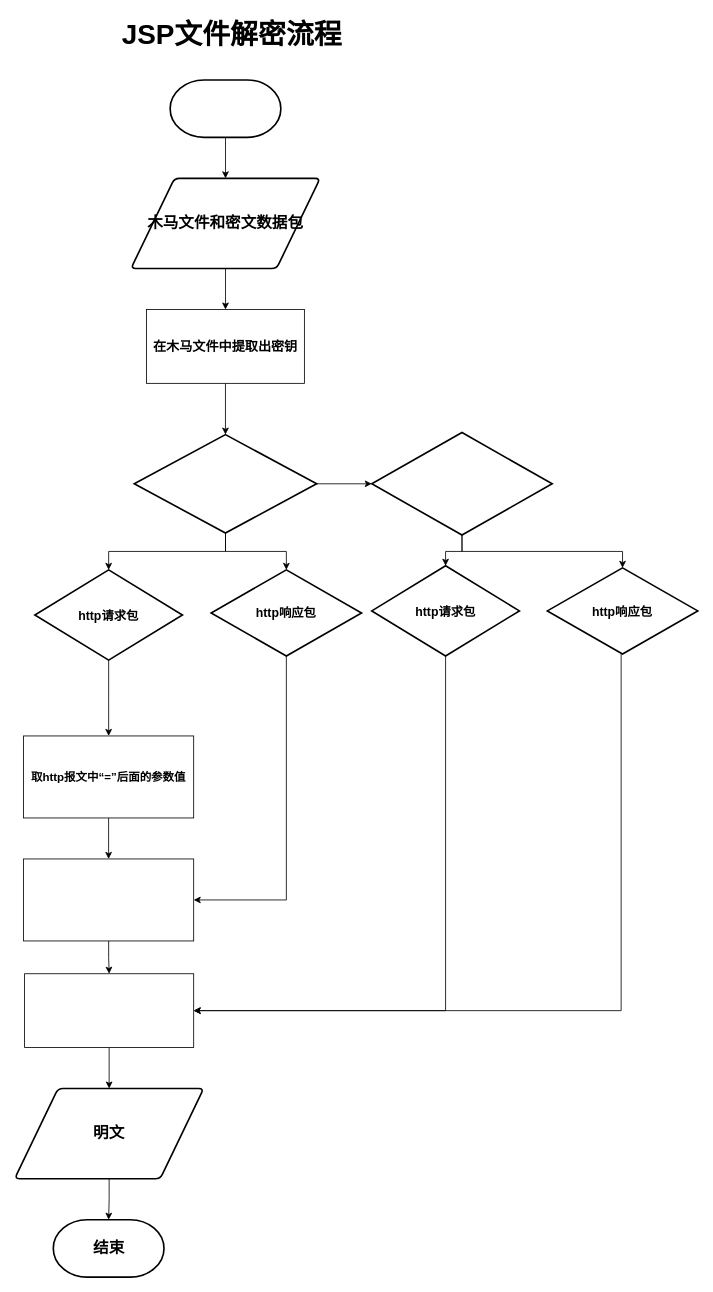
Image size: 713x1292. Some labels were removed from this diagram. The shapes that lost their labels are listed below. From the top down, each one's centre as x and y in pixels, then its label:
At point (225, 108): "开始".
At point (225, 483): "JAVA_AES_BASE64解密".
At point (462, 483): "JAVA_AES_RAW解密".
At point (108, 899): "进行URL解码和BASE64解码".
At point (109, 1010): "利用密钥对密文进行ECB模式的AES解密".
